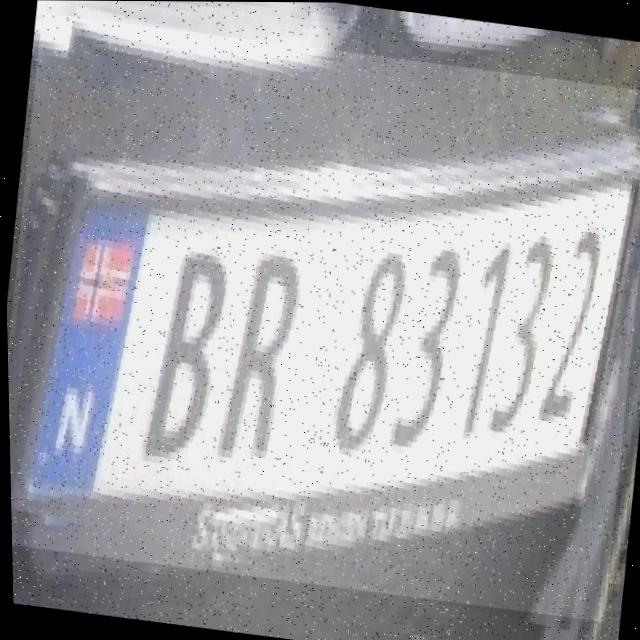LicensePlate: (0, 12, 640, 621)
